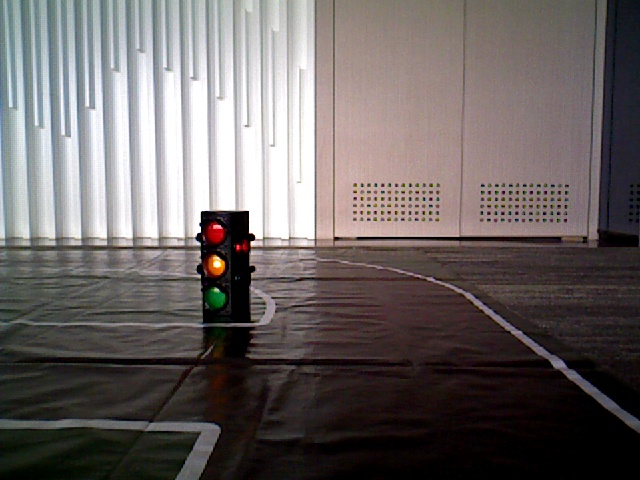yellow: (199, 215, 233, 317)
